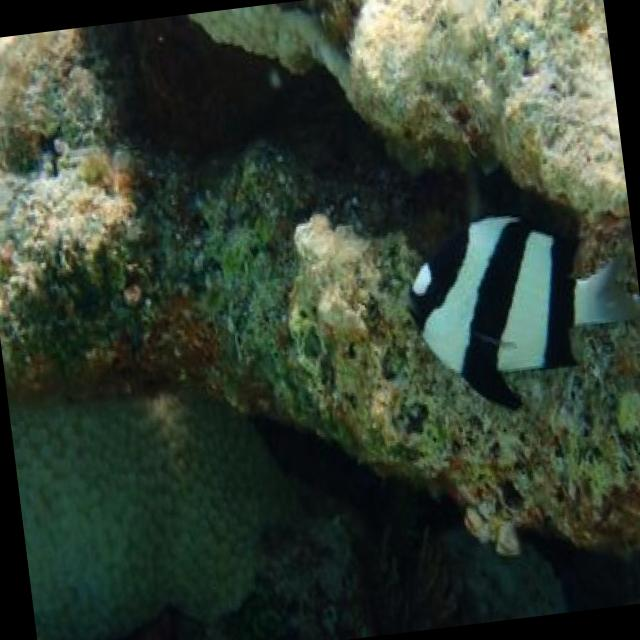Three_striped DasmselFish: (395, 199, 640, 418)
